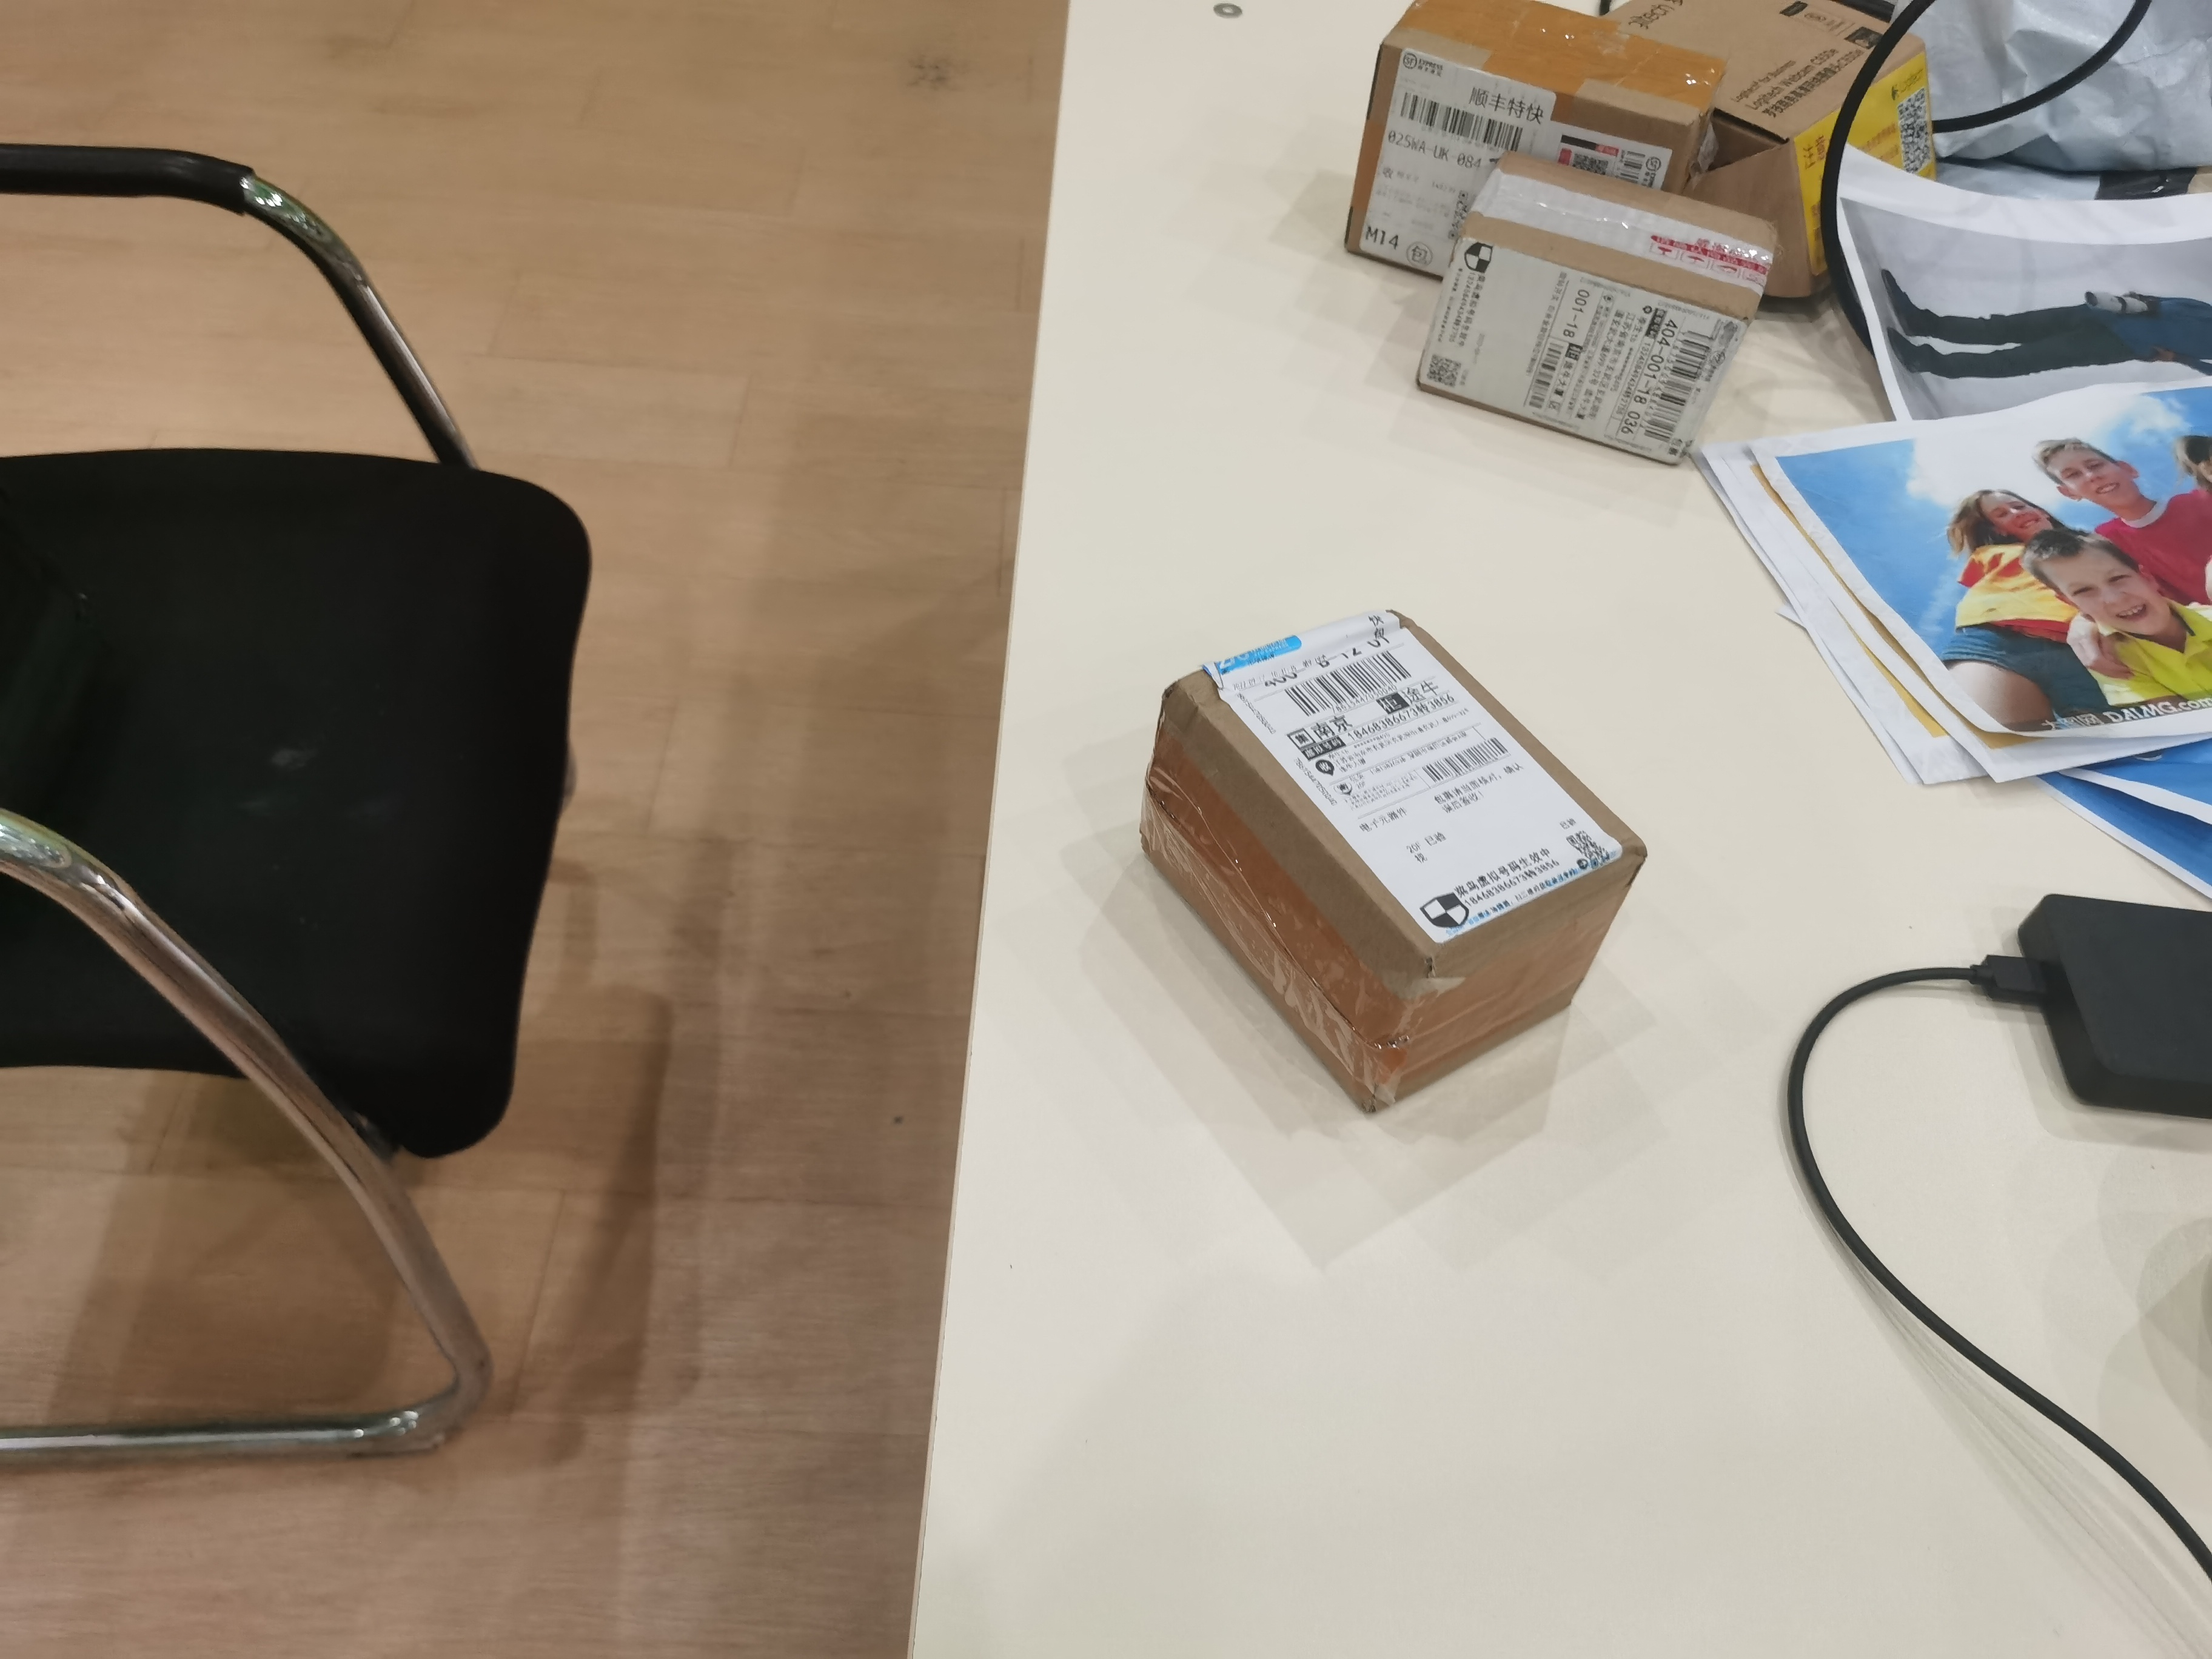box: (1125, 608, 1658, 1119), (1407, 141, 1792, 493), (1320, 3, 1747, 317)
